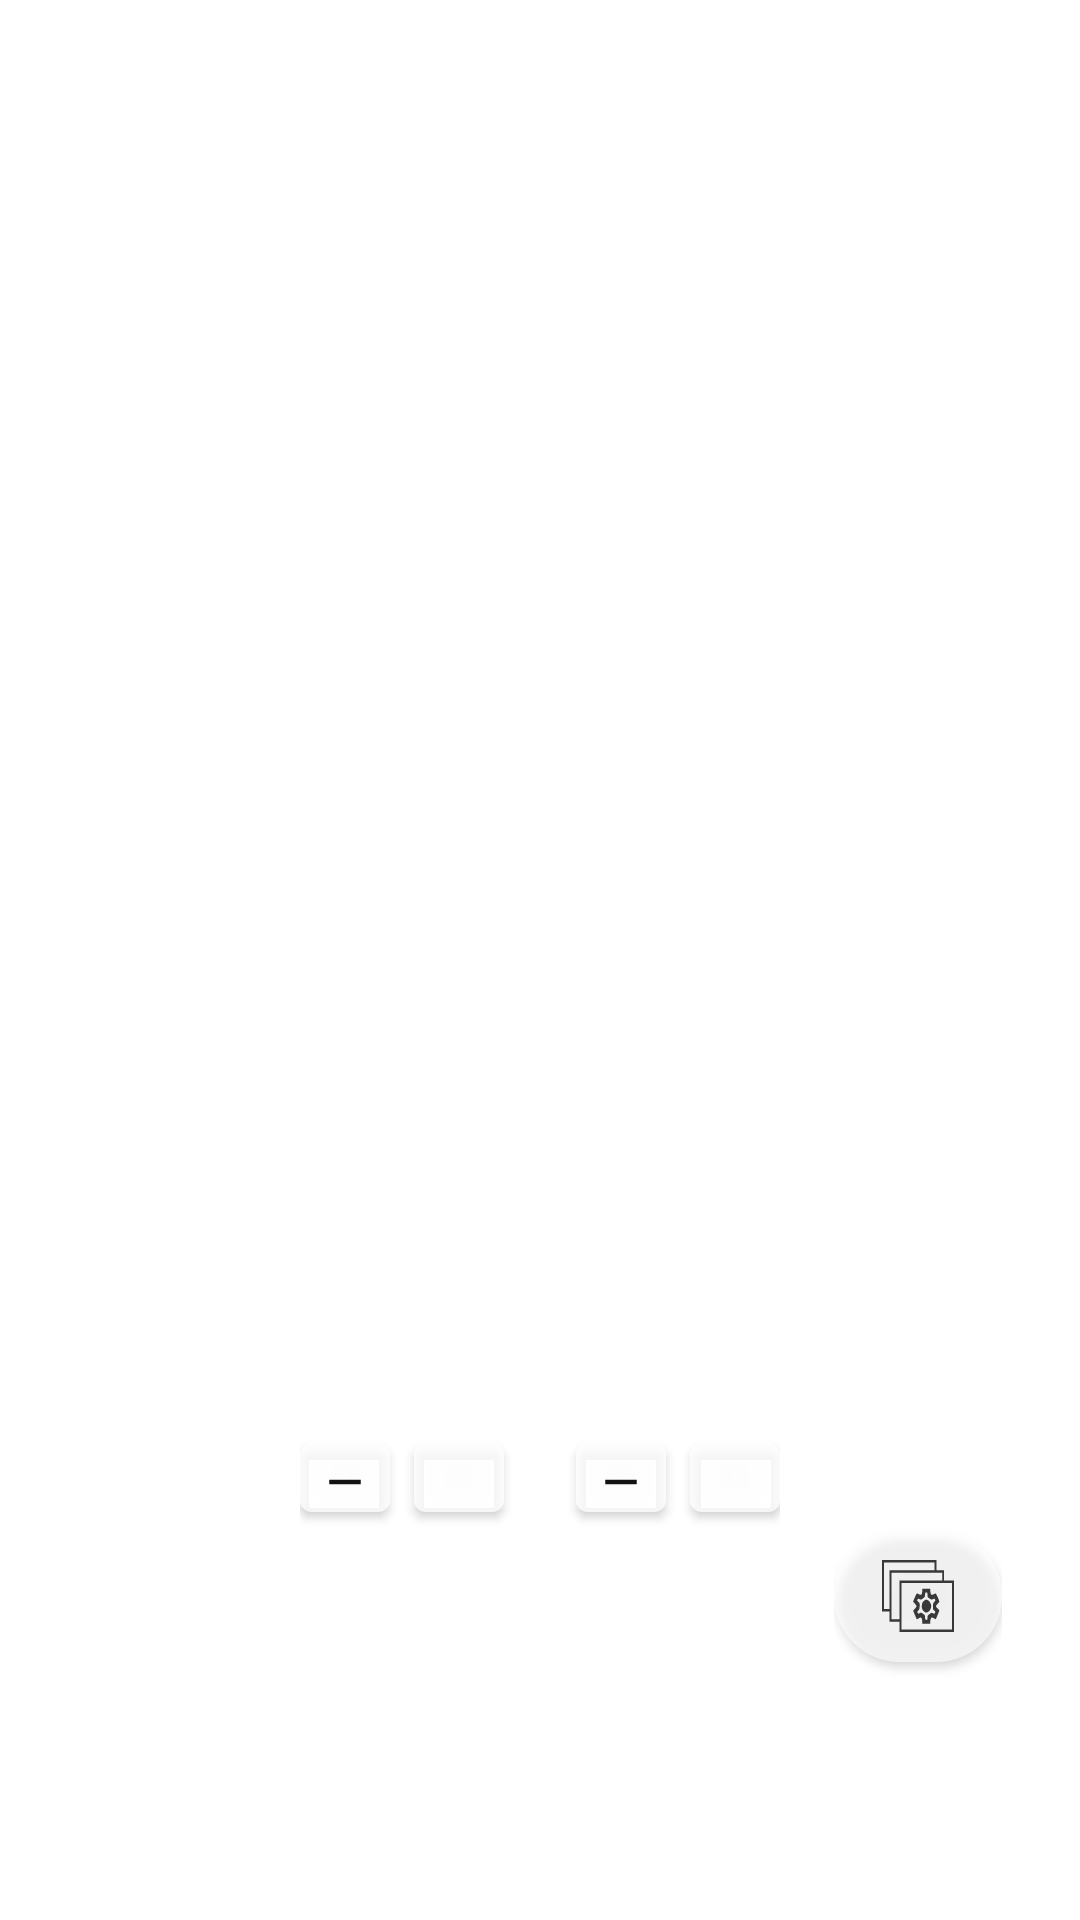

Icon bounding boxes for this 1080x1920 phone screenshot, format (x1,y1,x2,y2):
decrease: (301,1479,387,1516), (579,1479,664,1516)
overlays menu: (834,1540,1002,1671)
